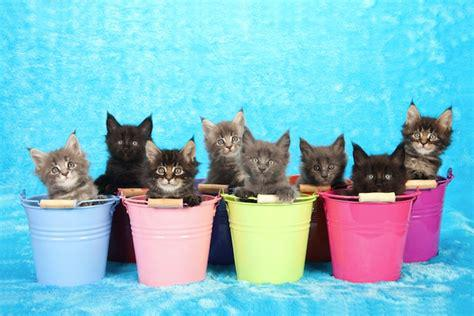cat: (28, 133, 98, 205), (96, 110, 153, 194), (402, 98, 454, 182), (237, 129, 295, 204), (144, 138, 202, 207), (199, 111, 250, 188), (350, 142, 407, 194), (299, 136, 347, 189)
